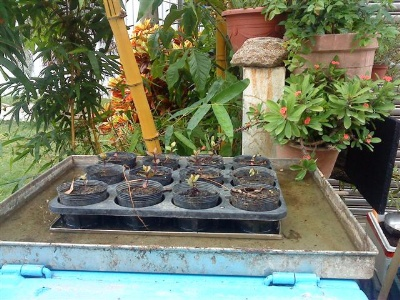plate: (1, 153, 380, 280)
